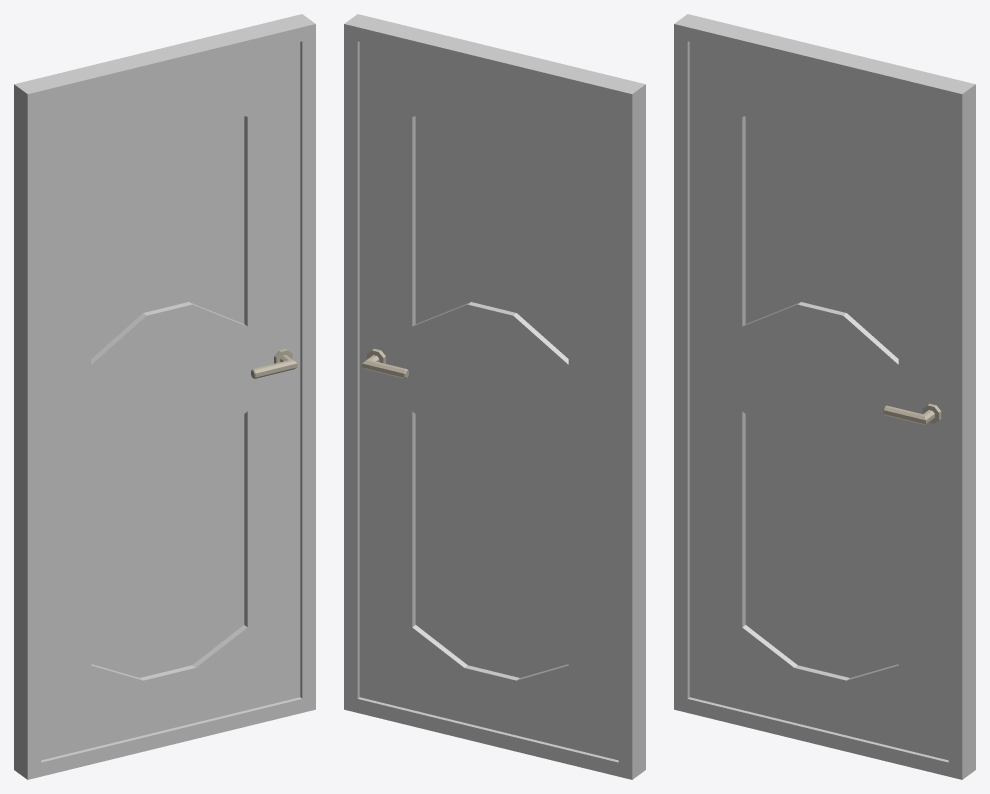
Rendered from Mesh_Door_D01.fbx.
3 views of the same model, side by side, from view 1: azimuth 30°, elevation 25°; view 2: azimuth 150°, elevation 25°; view 3: azimuth 330°, elevation 25° (orthographic).
Visible parts, largest first — view 1: Mesh_Door_D01; view 2: Mesh_Door_D01; view 3: Mesh_Door_D01.
Boxes of the visible parts, x1,y1,x2,y2 form: Mesh_Door_D01: (14,14,315,779); Mesh_Door_D01: (344,14,645,779); Mesh_Door_D01: (674,14,975,779).
Bounding box in the file's own units: 0.9 × 2.05 × 0.1732.
